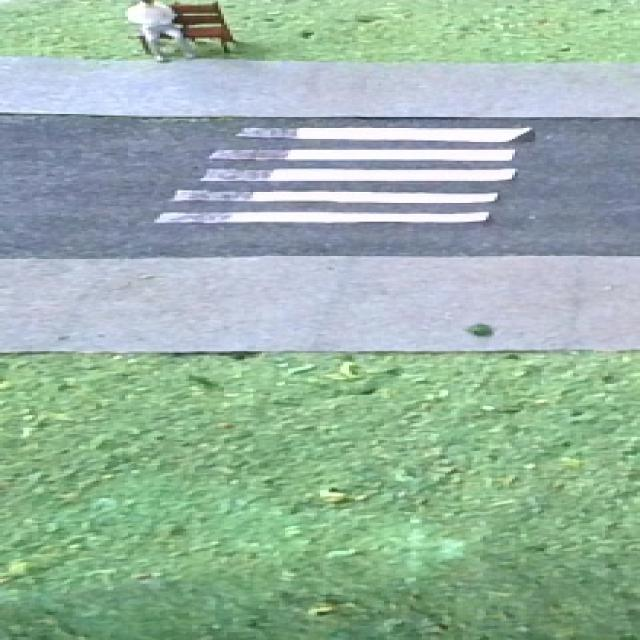person: (113, 0, 206, 62)
